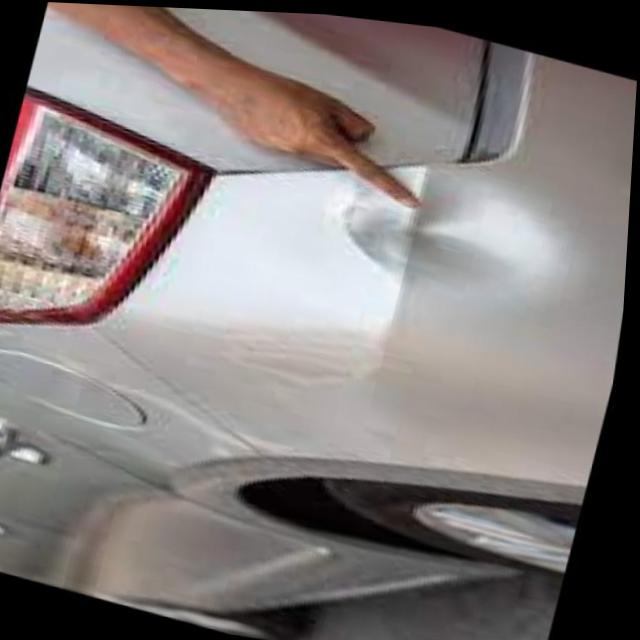Dent: (323, 135, 586, 321)
